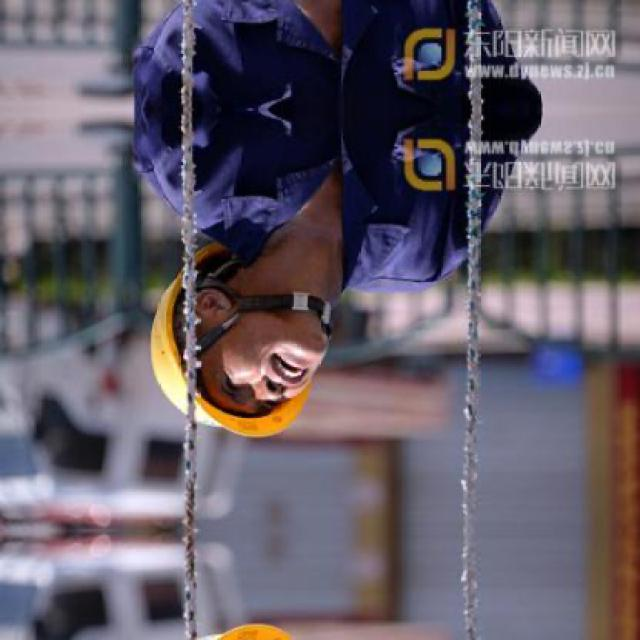con casco: (131, 227, 415, 447)
